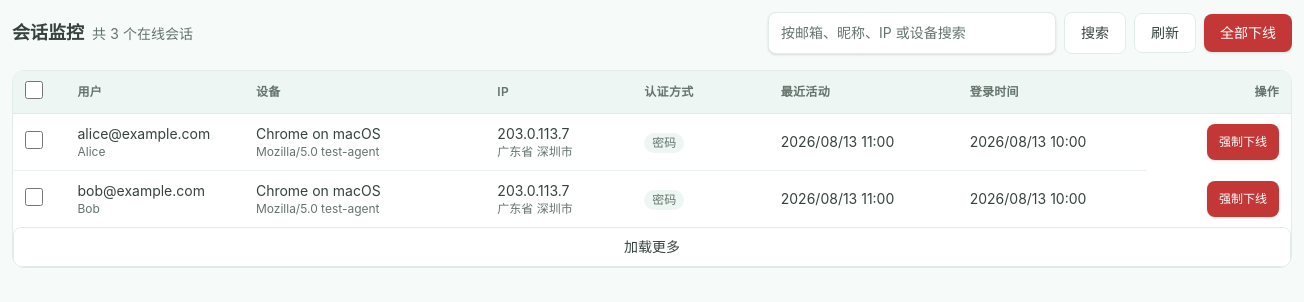
Test: AdminSessionsPanel › 列表未加载完时点击加载更多追加下一页
Expected: the text "alice@example.com" is shown, [78, 124, 232, 144]
Step 1. Click the button "加载更多" → (652, 247), box [13, 227, 1291, 267]
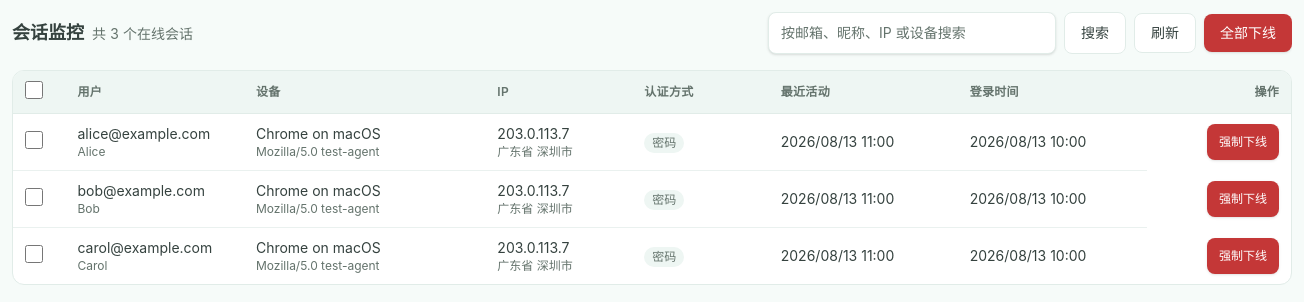
Result: the text "carol@example.com" is shown at [78, 238, 232, 258]
Result: the button "加载更多" is gone
